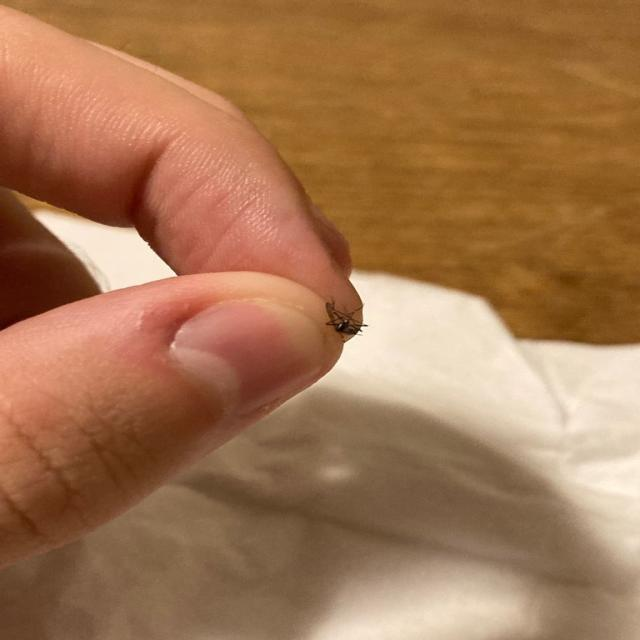albopictus: (314, 288, 368, 344)
